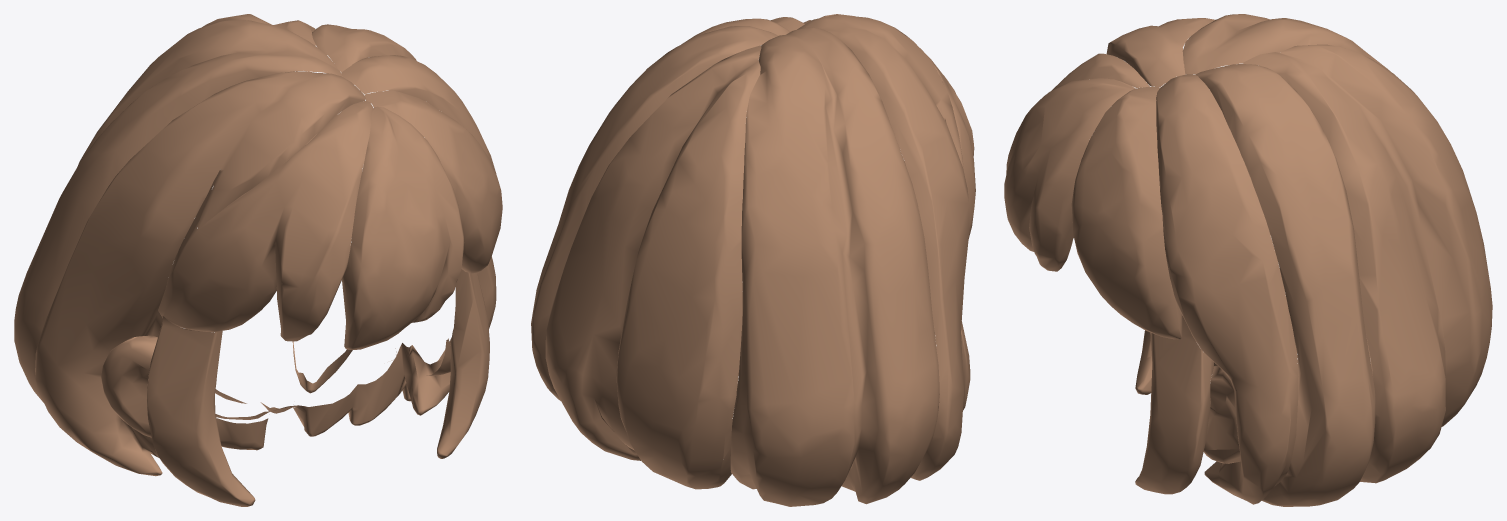
The model's file is hair_08.glb.
3 renders of one model, left to right at view 1: azimuth 30°, elevation 25°; view 2: azimuth 150°, elevation 25°; view 3: azimuth 270°, elevation 25°, orthographic. The views are drawn at different scales.
Parts seen in each view (by area): view 1: hair; view 2: hair; view 3: hair.
Part boxes in pixels (bbox=[...]): hair: bbox=[14, 14, 502, 506]; hair: bbox=[531, 14, 975, 506]; hair: bbox=[1004, 14, 1492, 506].
Bounding box in the file's own units: 0.584 × 0.5433 × 0.5866.
